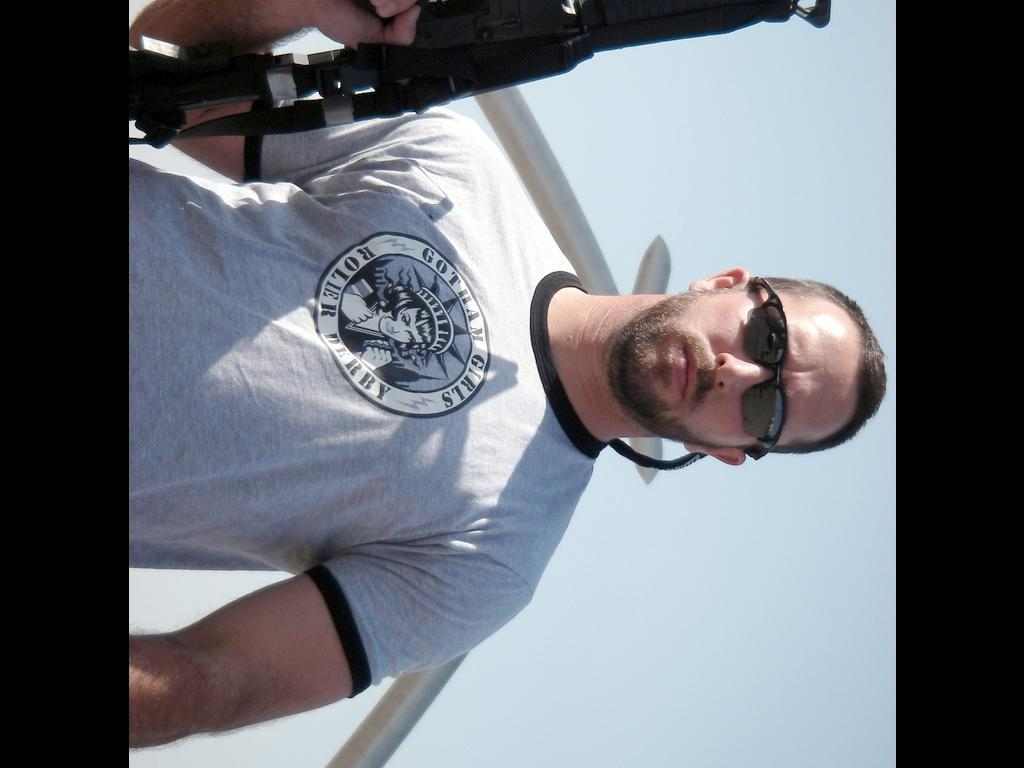gun: (128, 0, 896, 148)
